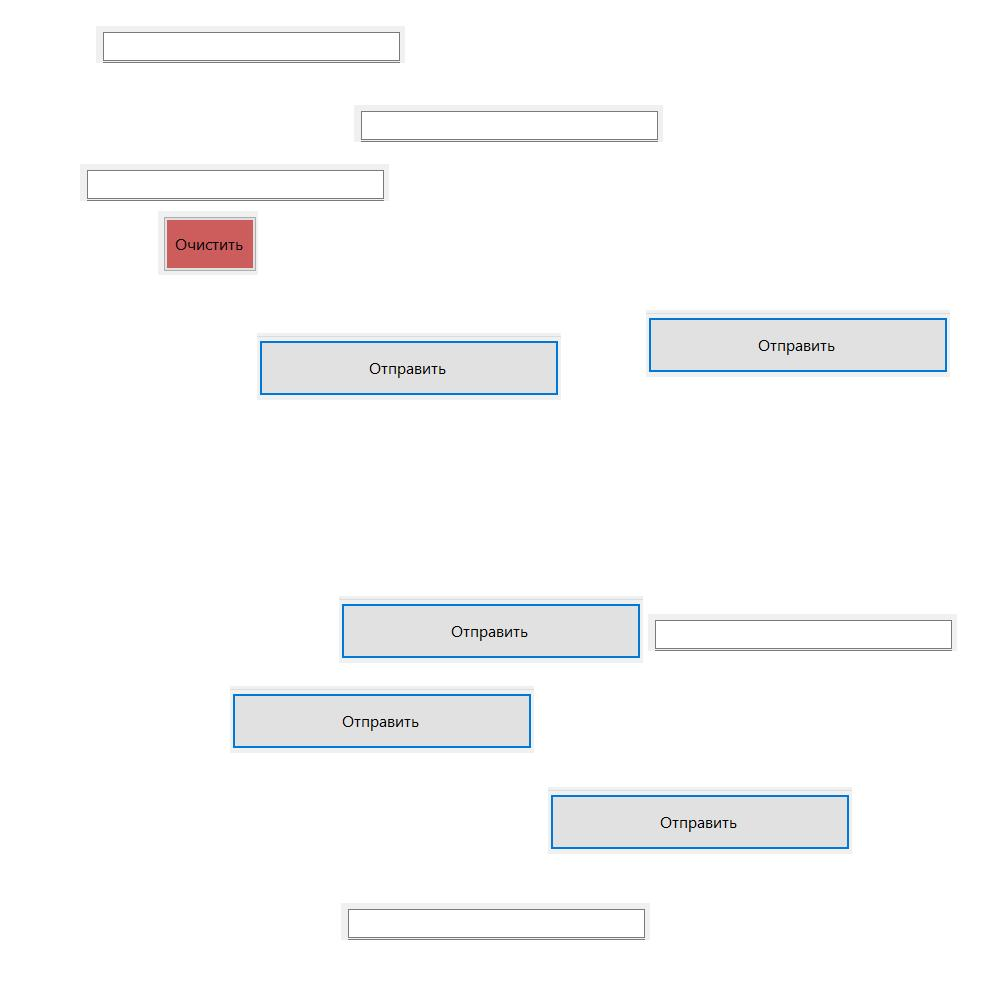Button: (257, 333, 561, 400), (646, 310, 950, 377), (339, 596, 643, 663), (548, 787, 852, 854), (230, 686, 534, 753), (158, 211, 258, 275)
EditText-: (96, 26, 405, 63), (341, 903, 650, 940), (354, 105, 663, 142), (648, 614, 957, 651), (80, 164, 389, 201)
